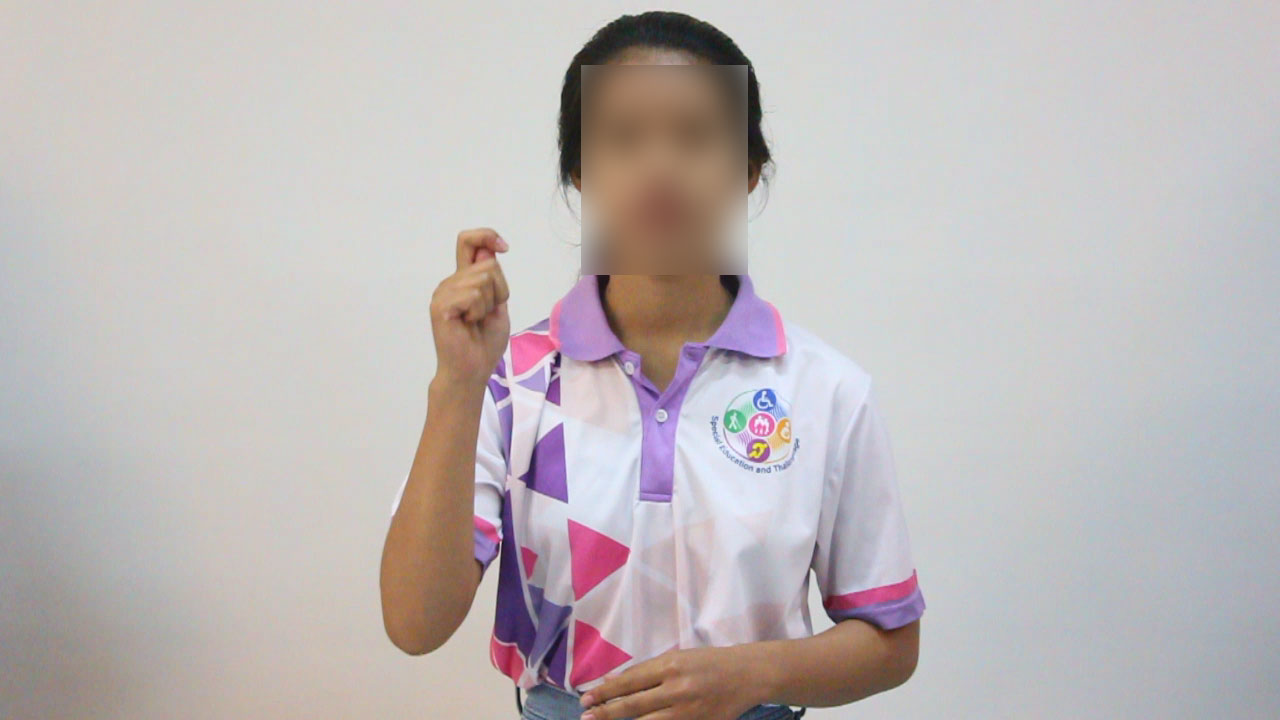or: (423, 221, 520, 398)
